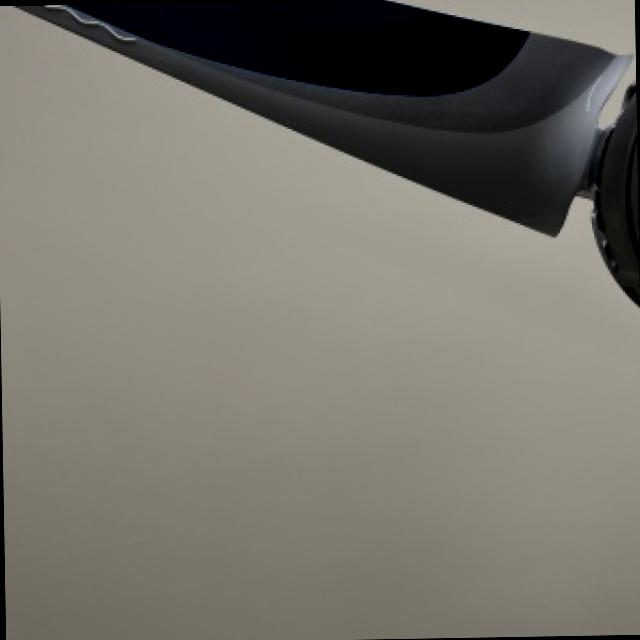healthy: (18, 0, 638, 300)
